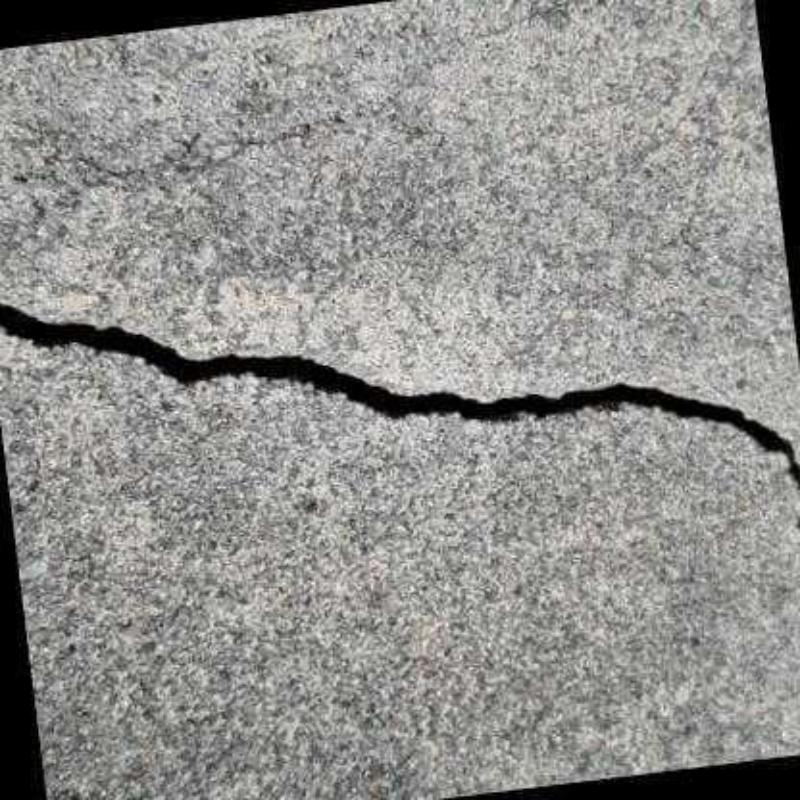crack: (0, 293, 800, 530)
